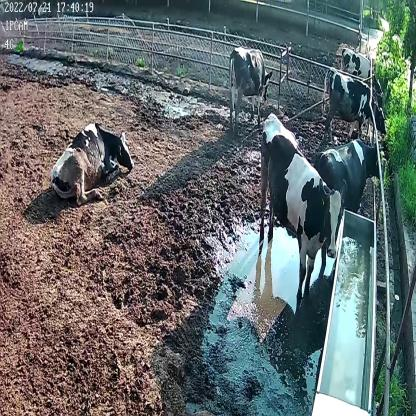cow: (258, 112, 348, 302), (51, 123, 135, 203), (323, 62, 387, 140), (314, 139, 381, 213), (226, 44, 272, 131), (340, 44, 374, 79)
